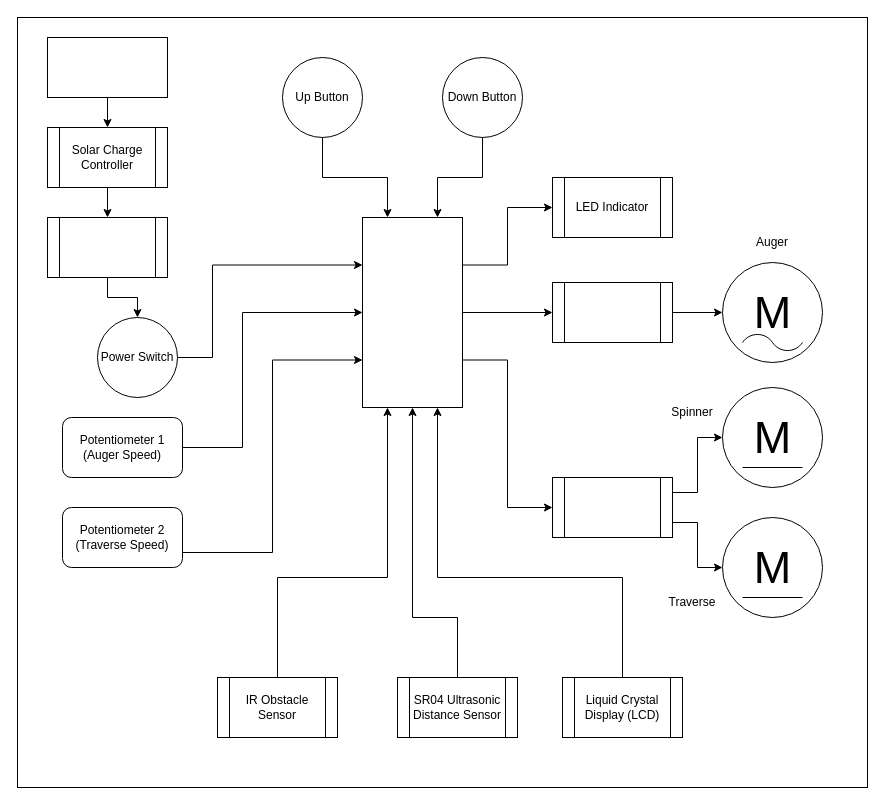
This 885x805 diagram has some shape labels left out. The centre of each missing label's shape, as x and y in pixels:
A4988 Stepper Motor Driver: pixel 612 312
Arduino Uno: pixel 412 312
Battery Pack: pixel 107 247
L298N Motor Driver: pixel 612 507
SOLAR PANEL: pixel 107 67
